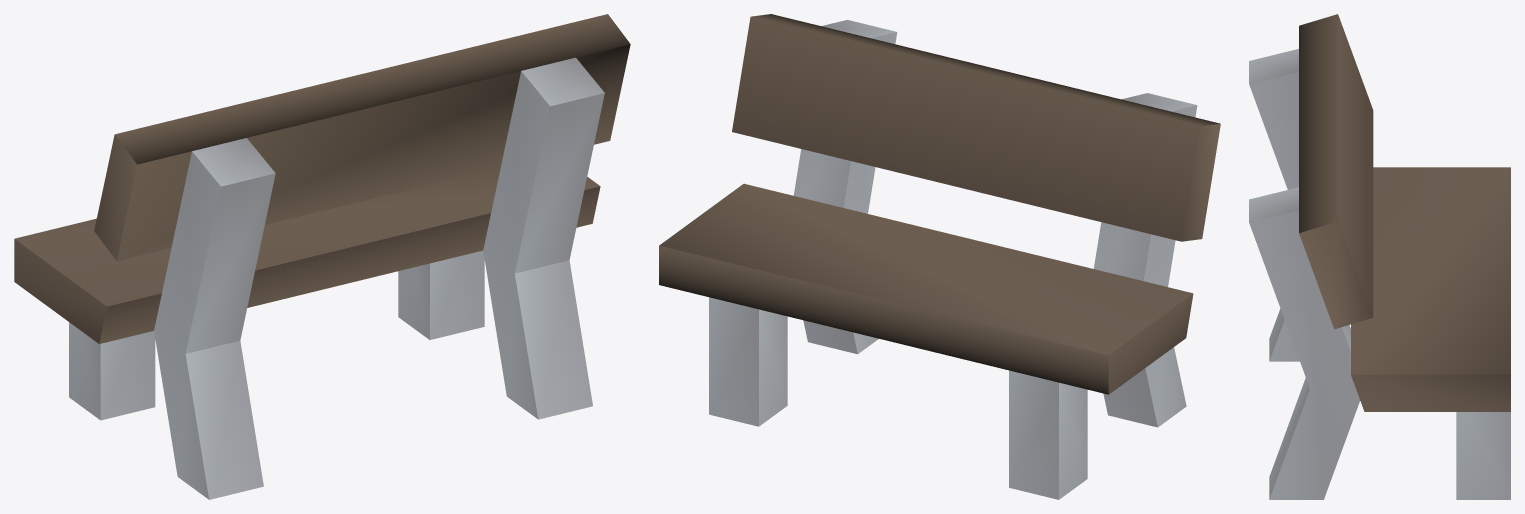
The model's file is detail-bench.glb.
3 views of the same model, side by side, from view 1: azimuth 30°, elevation 25°; view 2: azimuth 150°, elevation 25°; view 3: azimuth 270°, elevation 25° (orthographic). The views are drawn at different scales.
Visible parts, largest first — view 1: detail-bench; view 2: detail-bench; view 3: detail-bench.
Boxes of the visible parts, <box> form: detail-bench: <box>14,14,630,499</box>; detail-bench: <box>659,14,1220,499</box>; detail-bench: <box>1249,14,1510,499</box>.
Size of the model in its own units: 0.6039 by 0.4091 by 0.3221.
